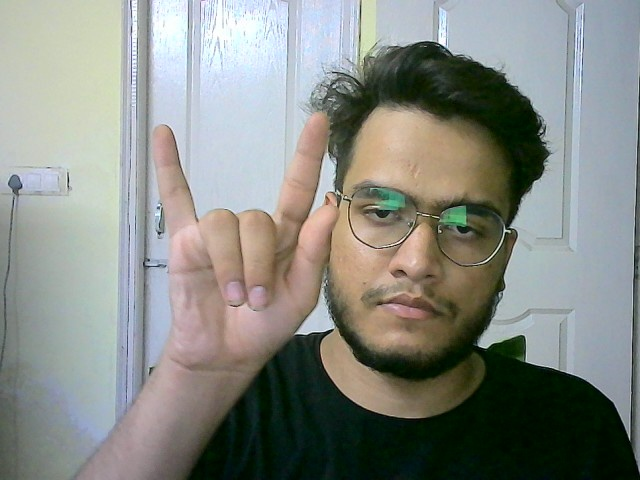I Love You: (148, 108, 344, 375)
